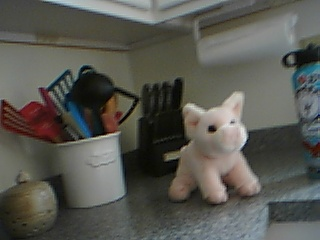piggy: (166, 90, 263, 206)
